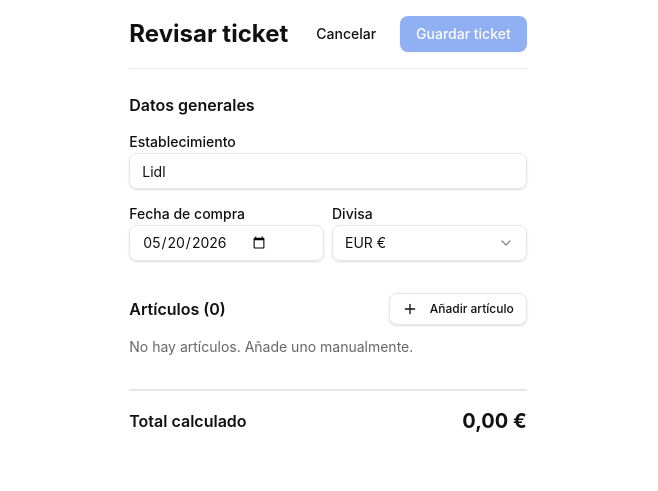
Test: ReceiptDraftEditor › el botón Guardar está deshabilitado si no hay artículos y se habilita al añadir
Expected: the button "Guardar ticket" is disabled, [400,16,527,52]
Click the button "Añadir artículo": point(458, 309) [389,293,527,325]
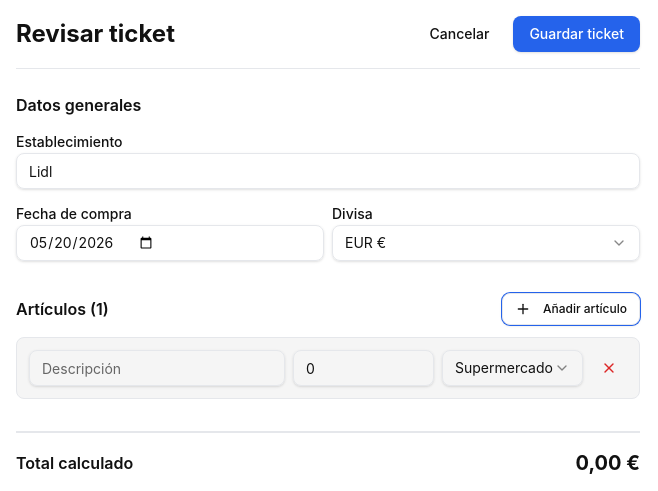
Now the button "Guardar ticket" is enabled, box [513,16,640,52]
